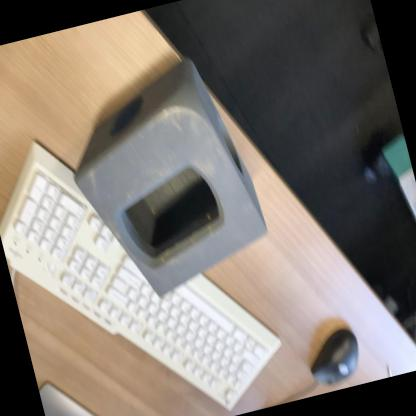CornerCasting: (47, 43, 282, 316)
